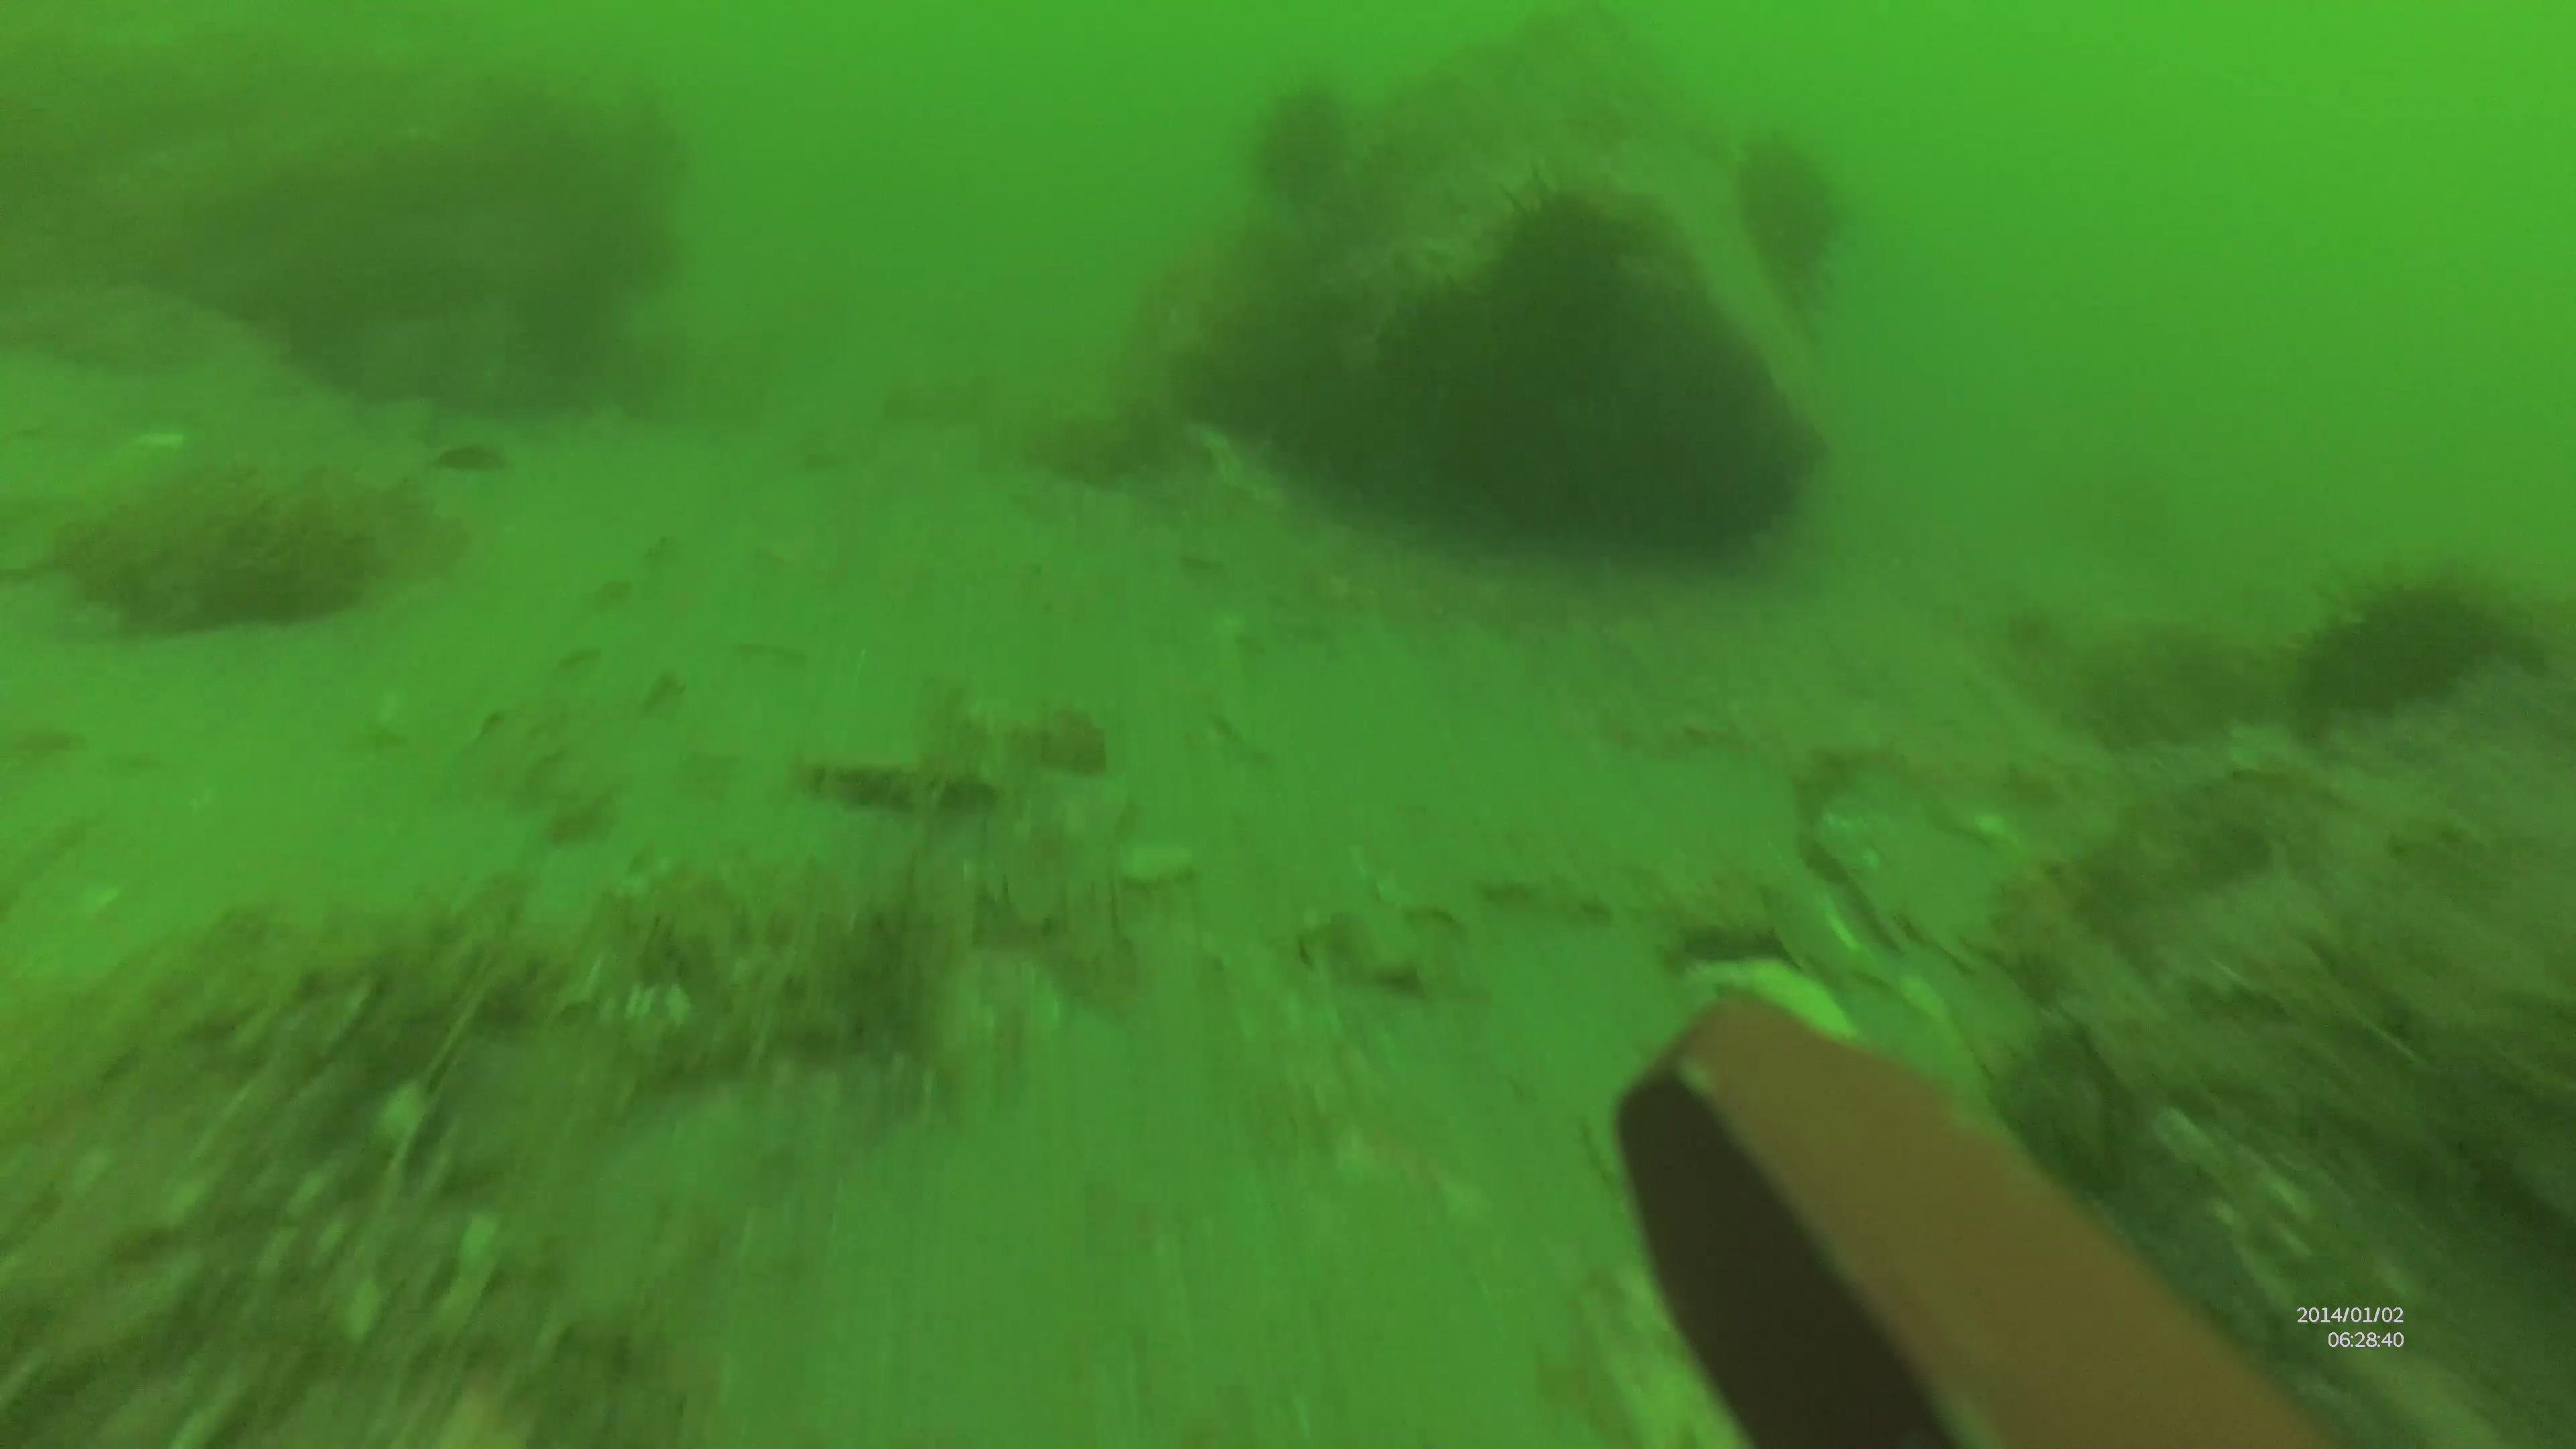echinus: (2293, 556, 2564, 770), (1697, 152, 1851, 329), (1486, 173, 1645, 336), (1226, 83, 1371, 214)
